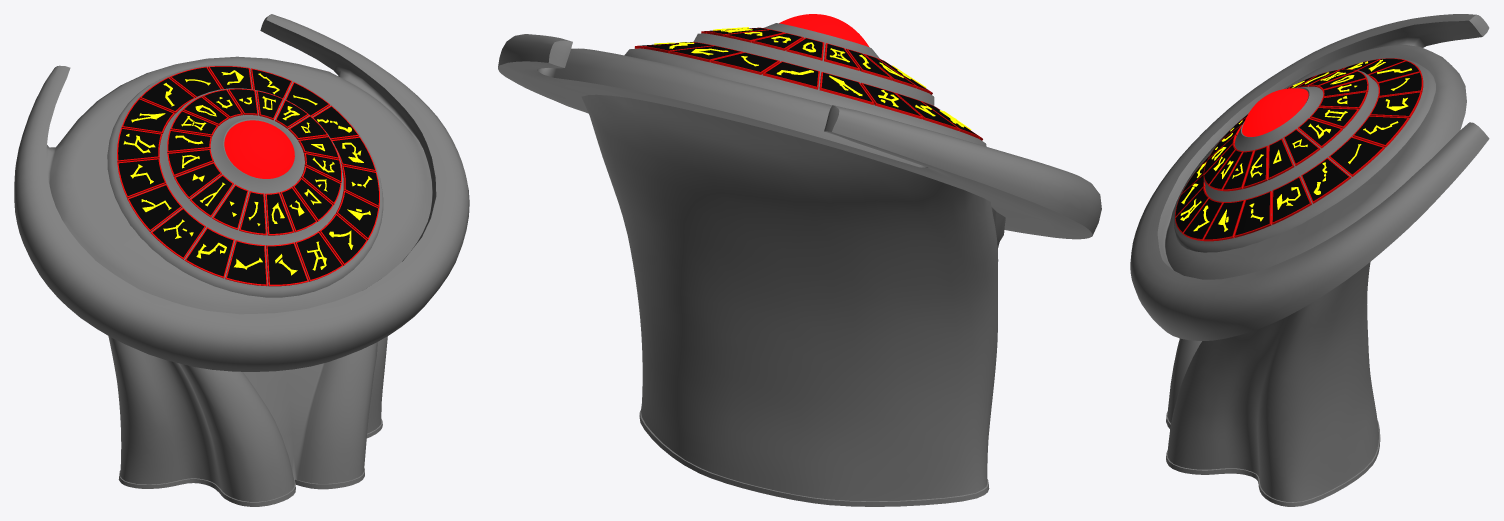
Rendered from DHD_v2.fbx.
The picture shows the model from 3 angles, left to right: view 1: azimuth 30°, elevation 25°; view 2: azimuth 150°, elevation 25°; view 3: azimuth 270°, elevation 25°; orthographic projection. The views are drawn at different scales.
Visible parts, largest first — view 1: DHD_Base, DHD_Dome, Glyph_8_Scorpius, Glyph_19_Scultor, Glyph_4_Centaurus, Glyph_3_Boötes, Glyph_31_Monoceros, Glyph_2_Virgo, Glyph_12_Aquila, Glyph_20_Pisces, Glyph_18_Pegasus, Glyph_10_Scutum (+28 smaller); view 2: DHD_Base, DHD_Dome, Glyph_6_SerpensCaput, Glyph_21_Andromeda, Glyph_37_LeoMinor, Glyph_18_Pegasus, Glyph_5_Libra; view 3: DHD_Base, DHD_Dome, Glyph_33_Hydra, Glyph_11_Sagittarius, Glyph_23_Aries, Glyph_36_Sextans, Glyph_28_Eridanus, Glyph_10_Scutum, Glyph_5_Libra, Glyph_20_Pisces, Glyph_37_LeoMinor, Glyph_25_Cetus (+12 smaller).
Part boxes in pixels (<box>): DHD_Base: <box>14,14,469,506</box>; DHD_Dome: <box>210,114,304,194</box>; Glyph_8_Scorpius: <box>184,227,234,278</box>; Glyph_19_Scultor: <box>225,240,267,286</box>; Glyph_4_Centaurus: <box>150,208,205,259</box>; Glyph_3_Boötes: <box>266,242,308,286</box>; Glyph_31_Monoceros: <box>127,184,182,231</box>; Glyph_2_Virgo: <box>295,231,343,281</box>; Glyph_12_Aquila: <box>117,158,166,198</box>; Glyph_20_Pisces: <box>319,213,367,265</box>; Glyph_18_Pegasus: <box>117,127,162,162</box>; Glyph_10_Scutum: <box>336,190,379,239</box>; DHD_Base: <box>498,33,1101,506</box>; DHD_Dome: <box>764,14,879,58</box>; Glyph_6_SerpensCaput: <box>762,61,819,89</box>; Glyph_21_Andromeda: <box>819,72,874,104</box>; Glyph_37_LeoMinor: <box>710,52,779,74</box>; Glyph_18_Pegasus: <box>860,82,922,119</box>; Glyph_5_Libra: <box>669,45,743,62</box>; DHD_Base: <box>1130,14,1489,506</box>; DHD_Dome: <box>1234,86,1323,151</box>; Glyph_33_Hydra: <box>1301,157,1351,203</box>; Glyph_11_Sagittarius: <box>1271,176,1311,224</box>; Glyph_23_Aries: <box>1328,136,1384,176</box>; Glyph_36_Sextans: <box>1234,191,1271,237</box>; Glyph_28_Eridanus: <box>1352,115,1409,147</box>; Glyph_10_Scutum: <box>1203,199,1245,241</box>; Glyph_5_Libra: <box>1369,91,1421,118</box>; Glyph_20_Pisces: <box>1183,198,1223,240</box>; Glyph_37_LeoMinor: <box>1377,72,1423,97</box>; Glyph_25_Cetus: <box>1283,128,1320,165</box>.
Size of the model in its own units: 1.63 by 1.29 by 1.14.
